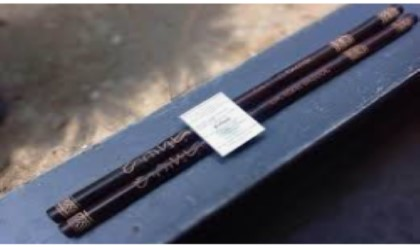baston_e: (77, 18, 402, 235), (61, 7, 387, 222)
baston_v: (40, 204, 60, 225), (56, 222, 77, 241), (400, 10, 420, 26), (386, 0, 407, 14)
